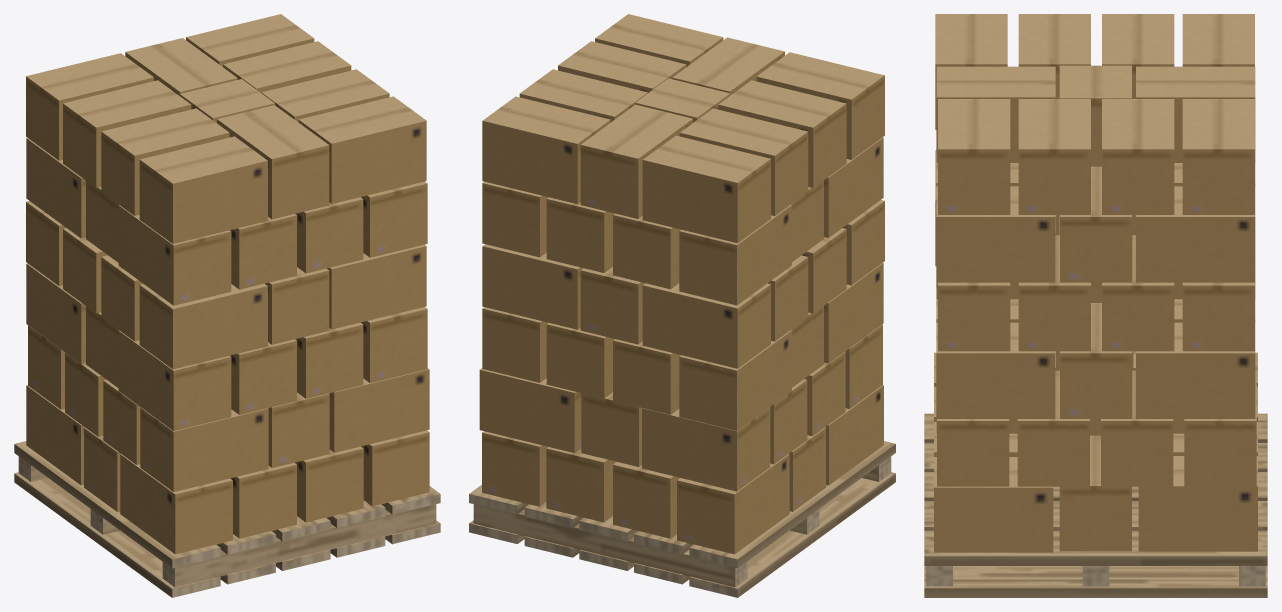
Rendered from Box_Set_001_C.FBX.
The picture shows the model from 3 angles, left to right: view 1: azimuth 30°, elevation 25°; view 2: azimuth 150°, elevation 25°; view 3: azimuth 270°, elevation 25°; orthographic projection. The views are drawn at different scales.
Parts seen in each view (by area): view 1: Box_Set_001_C; view 2: Box_Set_001_C; view 3: Box_Set_001_C.
Boxes of the visible parts, left/top/right/bottom form: Box_Set_001_C: left=14, top=14, right=440, bottom=597; Box_Set_001_C: left=469, top=14, right=895, bottom=597; Box_Set_001_C: left=924, top=14, right=1267, bottom=597.
Bounding box in the file's own units: 93.25 × 95 × 136.
